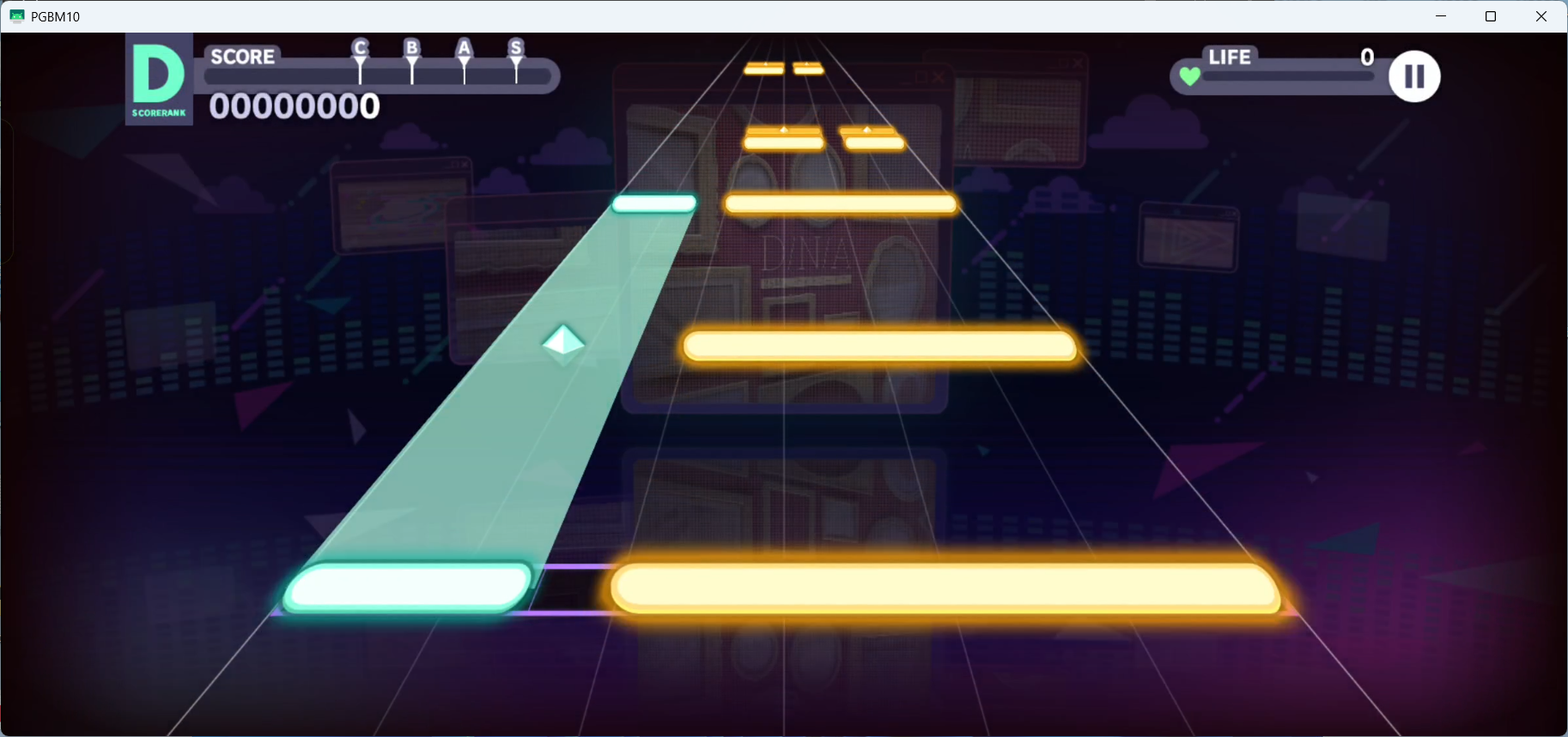hold: (306, 216, 698, 568)
sweep: (542, 323, 584, 367), (746, 126, 820, 135), (839, 126, 894, 135), (746, 61, 784, 66), (792, 61, 821, 67)
tap: (610, 561, 1280, 616), (684, 328, 1076, 364), (281, 562, 532, 616), (725, 194, 957, 213), (611, 195, 696, 213), (744, 137, 824, 148), (845, 136, 904, 149), (744, 67, 783, 74), (793, 68, 824, 75)
